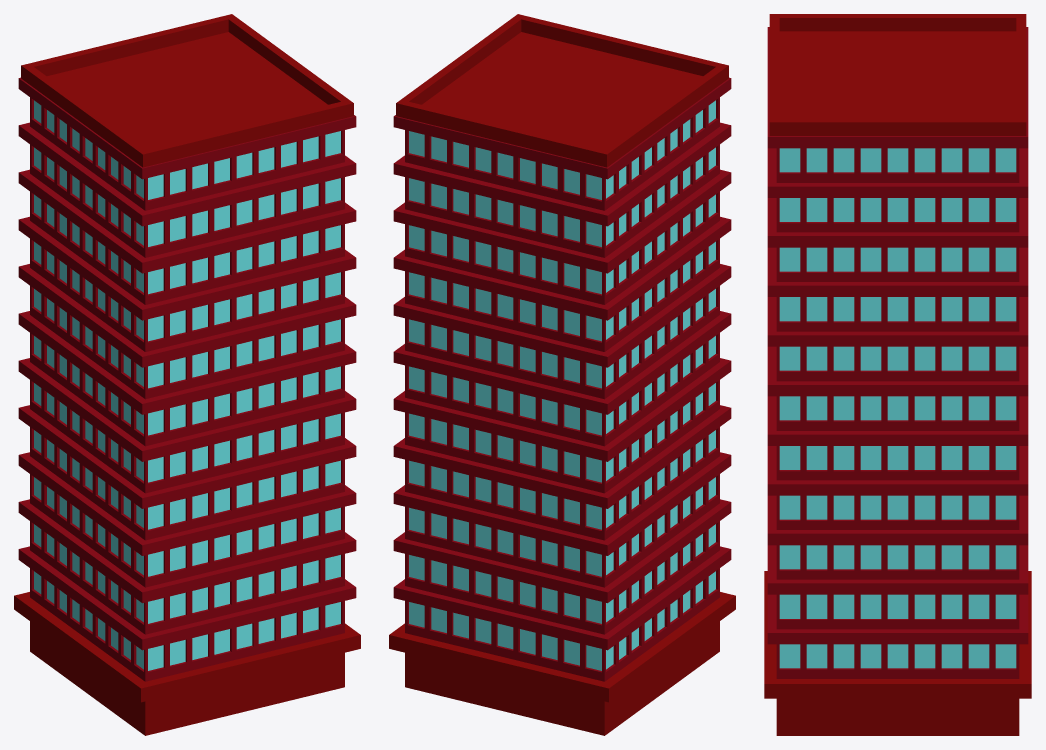
The model's file is predio1.fbx.
The picture shows the model from 3 angles, left to right: view 1: azimuth 30°, elevation 25°; view 2: azimuth 150°, elevation 25°; view 3: azimuth 270°, elevation 25°; orthographic projection. The views are drawn at different scales.
Parts seen in each view (by area): view 1: Plane.001, Plane.002, Plane; view 2: Plane.001, Plane.002, Plane; view 3: Plane.001, Plane.002, Plane.
Part boxes in pixels (left/top/right/bottom): Plane.001: left=18, top=77, right=356, bottom=681; Plane.002: left=21, top=14, right=353, bottom=167; Plane: left=14, top=592, right=360, bottom=735; Plane.001: left=393, top=77, right=731, bottom=681; Plane.002: left=396, top=14, right=728, bottom=167; Plane: left=389, top=592, right=735, bottom=735; Plane.001: left=767, top=27, right=1028, bottom=678; Plane.002: left=769, top=14, right=1026, bottom=135; Plane: left=764, top=571, right=1031, bottom=735.
Bounding box in the file's own units: 220 × 560 × 220.
